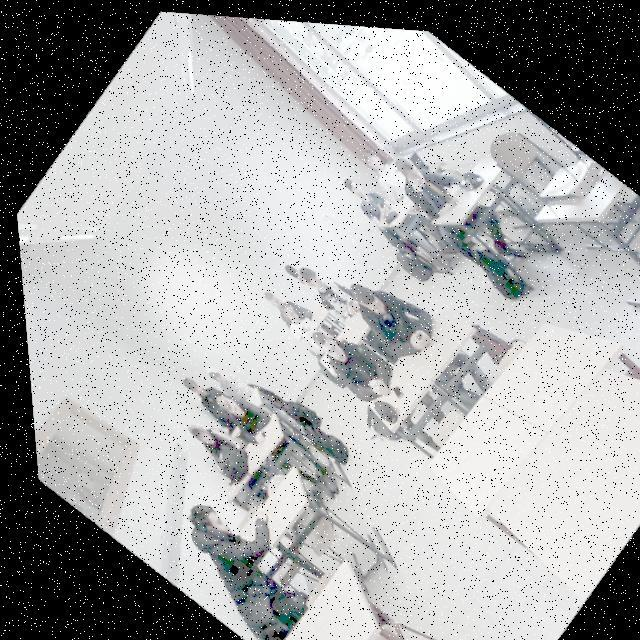phone_use: (340, 284, 430, 361), (200, 374, 268, 441), (393, 157, 448, 215)
